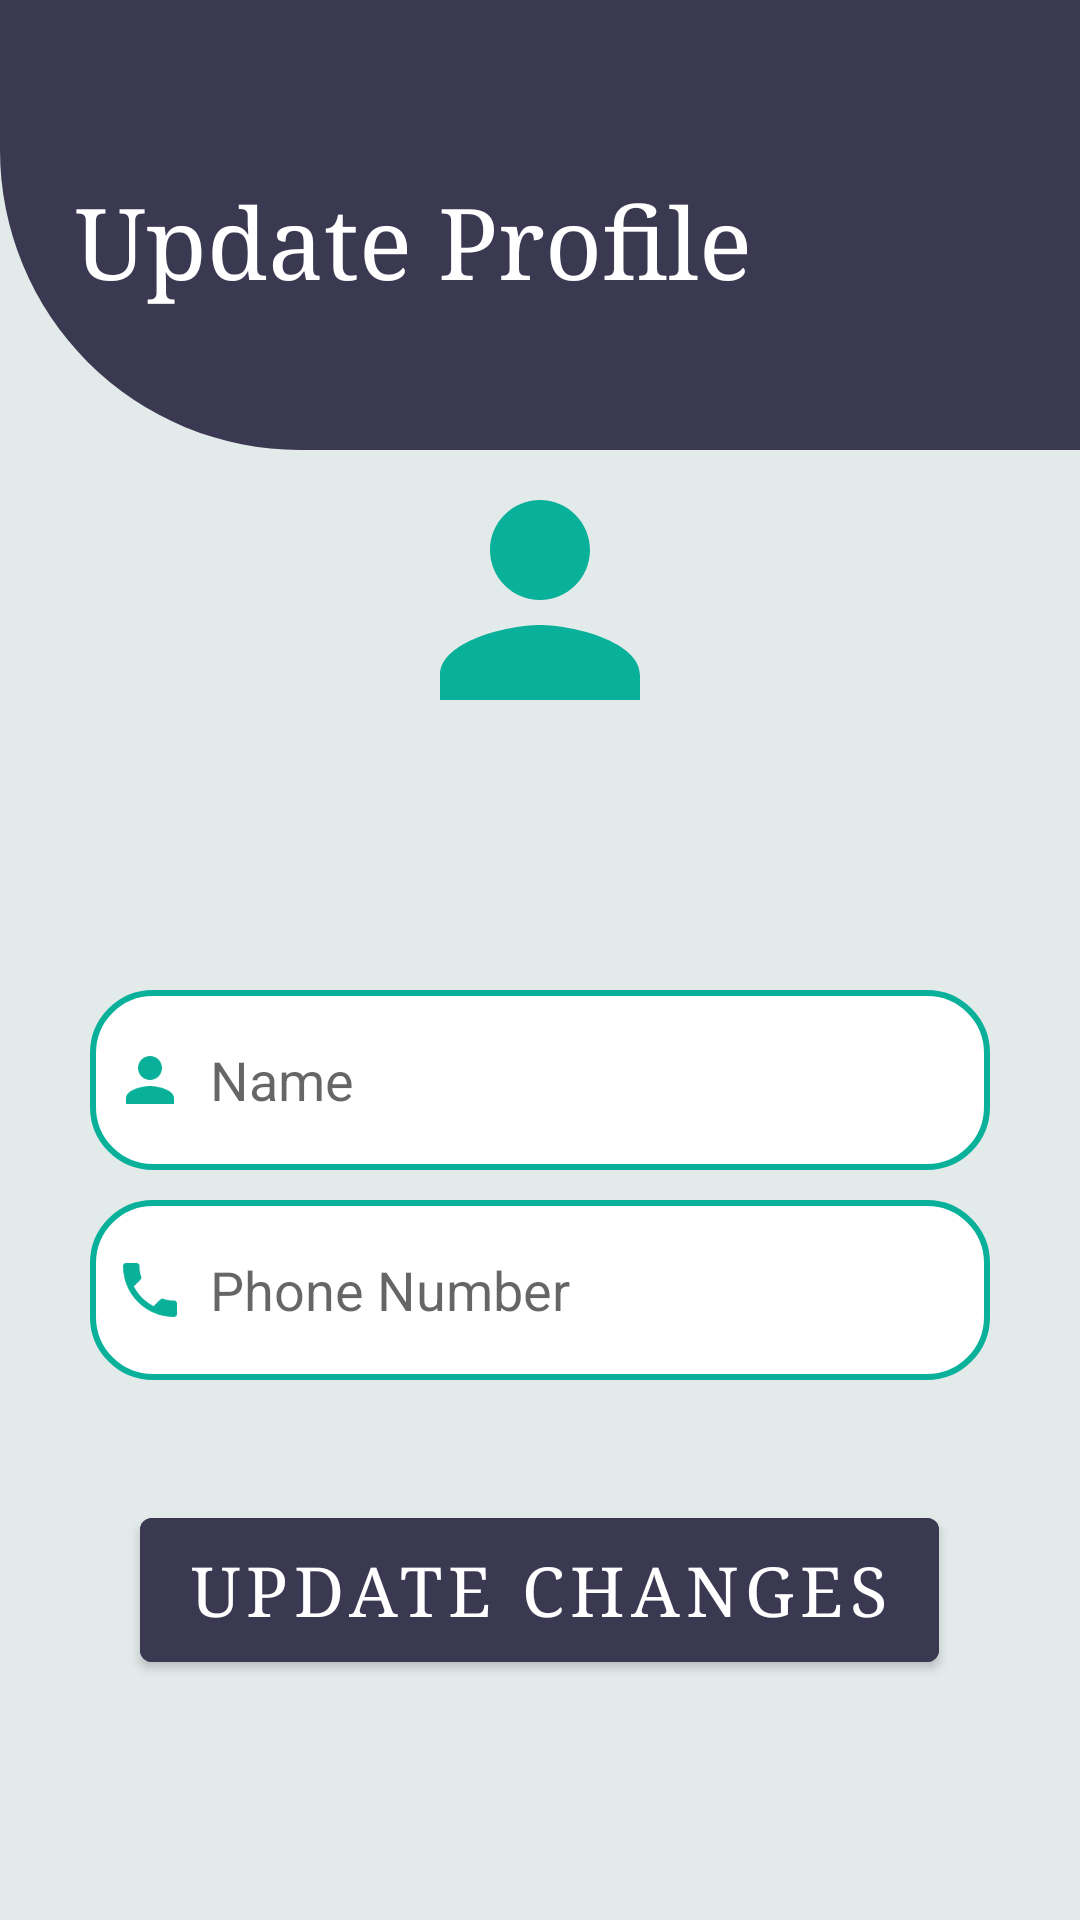

Icon click points for this 1080px x 1920px phone screenshot, format [x,y]:
person: [540,600]
